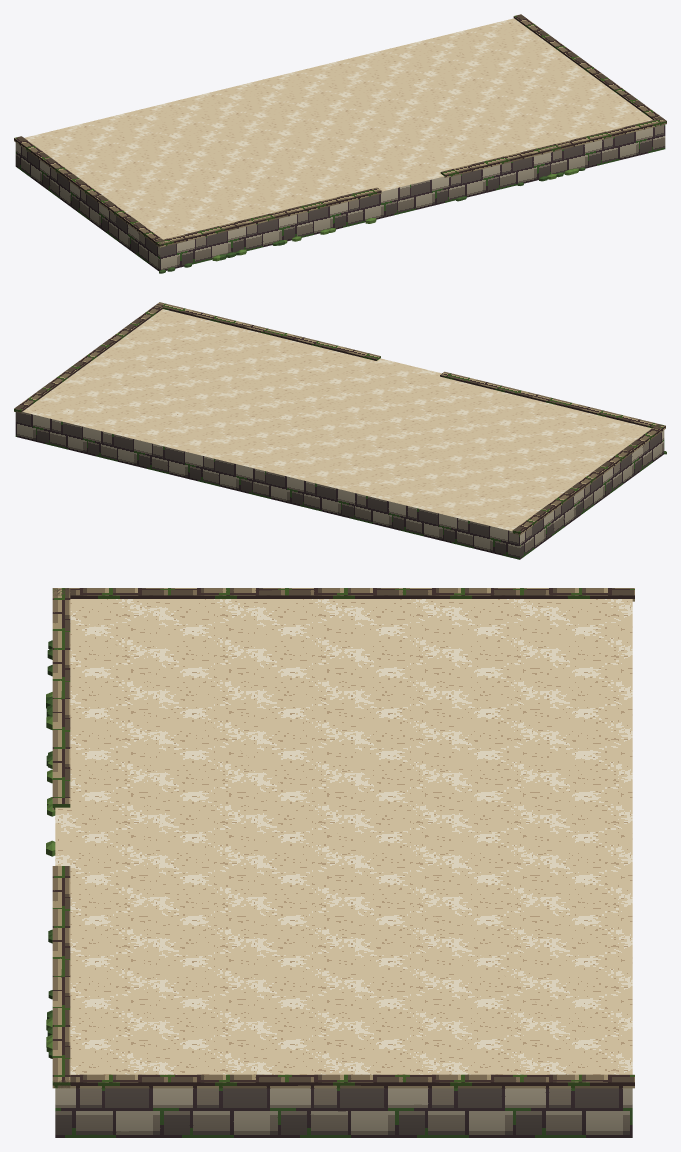
File: scene_plat_c2.glb
3 views of the same model, one above another, from view 1: azimuth 30°, elevation 25°; view 2: azimuth 150°, elevation 25°; view 3: azimuth 270°, elevation 25° (orthographic). The views are drawn at different scales.
Parts seen in each view (by area): view 1: scene_plat_c2; view 2: scene_plat_c2; view 3: scene_plat_c2.
Boxes of the visible parts, box(x1,y1,x2,y2) form: scene_plat_c2: box(14, 14, 666, 273); scene_plat_c2: box(14, 302, 666, 559); scene_plat_c2: box(46, 588, 634, 1137).
Bounding box in the file's own units: 23.94 × 1.37 × 12.04.
3 materials, 2 textured.
